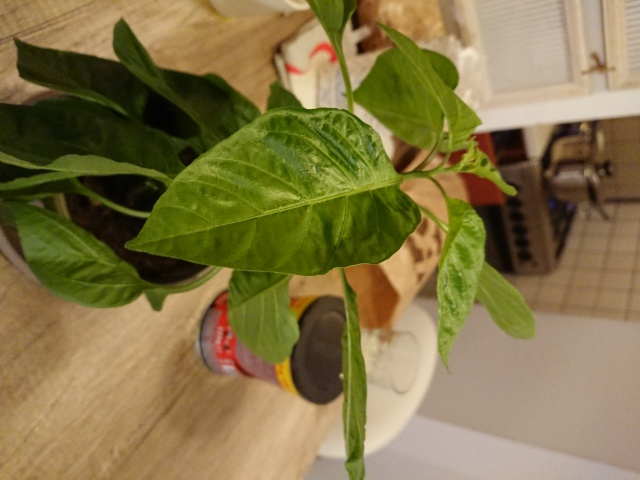Nescafe Classic 225g: (193, 284, 363, 408)
